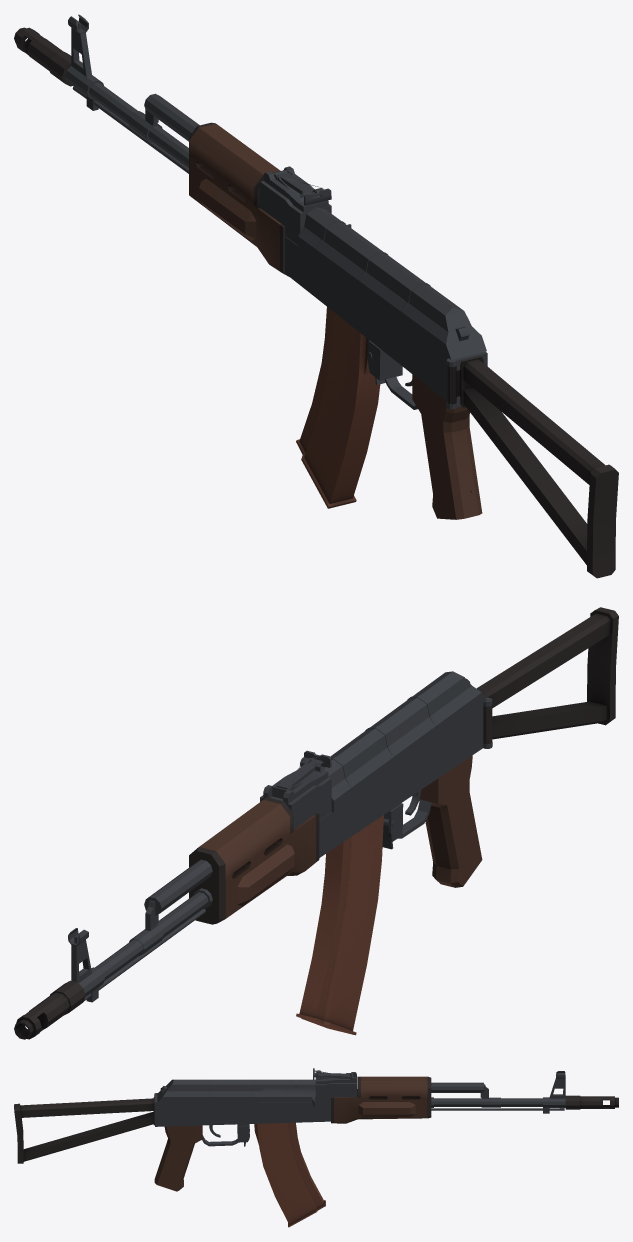
3 renders of one model, top to bottom at view 1: azimuth 30°, elevation 25°; view 2: azimuth 150°, elevation 25°; view 3: azimuth 270°, elevation 25°, orthographic. The views are drawn at different scales.
Parts seen in each view (by area): view 1: Body_AK_Platform_Body_mat_0, Stock_Skeleton_AK_Platform_Guards_mat_0, Magazine_Standard_Bakelite_AK_Platforms_Magazine_mat_0, Handguard_Standard_AK_Platform_Guards_mat_0, Grip_AK_Platform_Guards_mat_0, Barrel_Standard_AK_Platform_Body_mat_0, Muzzle_Brake_AK_Platform_Accesories_mat_0, Ironsights_AK_Platform_Body_mat_0; view 2: Body_AK_Platform_Body_mat_0, Magazine_Standard_Bakelite_AK_Platforms_Magazine_mat_0, Handguard_Standard_AK_Platform_Guards_mat_0, Stock_Skeleton_AK_Platform_Guards_mat_0, Barrel_Standard_AK_Platform_Body_mat_0, Grip_AK_Platform_Guards_mat_0, Muzzle_Brake_AK_Platform_Accesories_mat_0, Ironsights_AK_Platform_Body_mat_0; view 3: Body_AK_Platform_Body_mat_0, Magazine_Standard_Bakelite_AK_Platforms_Magazine_mat_0, Stock_Skeleton_AK_Platform_Guards_mat_0, Handguard_Standard_AK_Platform_Guards_mat_0, Barrel_Standard_AK_Platform_Body_mat_0, Grip_AK_Platform_Guards_mat_0, Bolt_AK_Platform_Body_mat_0, Muzzle_Brake_AK_Platform_Accesories_mat_0, Ironsights_AK_Platform_Body_mat_0.
Boxes of the visible parts, x1=… form: Body_AK_Platform_Body_mat_0: x1=260, y1=166, x2=487, y2=409; Stock_Skeleton_AK_Platform_Guards_mat_0: x1=447, y1=356, x2=618, y2=578; Magazine_Standard_Bakelite_AK_Platforms_Magazine_mat_0: x1=296, y1=307, x2=380, y2=508; Handguard_Standard_AK_Platform_Guards_mat_0: x1=189, y1=122, x2=288, y2=276; Grip_AK_Platform_Guards_mat_0: x1=412, y1=374, x2=482, y2=519; Barrel_Standard_AK_Platform_Body_mat_0: x1=65, y1=14, x2=199, y2=173; Muzzle_Brake_AK_Platform_Accesories_mat_0: x1=14, y1=27, x2=72, y2=86; Ironsights_AK_Platform_Body_mat_0: x1=275, y1=172, x2=331, y2=205; Body_AK_Platform_Body_mat_0: x1=260, y1=671, x2=492, y2=857; Magazine_Standard_Bakelite_AK_Platforms_Magazine_mat_0: x1=296, y1=815, x2=383, y2=1035; Handguard_Standard_AK_Platform_Guards_mat_0: x1=189, y1=797, x2=319, y2=924; Stock_Skeleton_AK_Platform_Guards_mat_0: x1=476, y1=607, x2=618, y2=744; Barrel_Standard_AK_Platform_Body_mat_0: x1=68, y1=859, x2=212, y2=1002; Grip_AK_Platform_Guards_mat_0: x1=419, y1=755, x2=482, y2=887; Muzzle_Brake_AK_Platform_Accesories_mat_0: x1=14, y1=980, x2=85, y2=1039; Ironsights_AK_Platform_Body_mat_0: x1=277, y1=750, x2=331, y2=790; Body_AK_Platform_Body_mat_0: x1=154, y1=1072, x2=356, y2=1146; Magazine_Standard_Bakelite_AK_Platforms_Magazine_mat_0: x1=254, y1=1122, x2=325, y2=1227; Stock_Skeleton_AK_Platform_Guards_mat_0: x1=14, y1=1097, x2=154, y2=1163; Handguard_Standard_AK_Platform_Guards_mat_0: x1=331, y1=1076, x2=431, y2=1123; Barrel_Standard_AK_Platform_Body_mat_0: x1=431, y1=1071, x2=565, y2=1113; Grip_AK_Platform_Guards_mat_0: x1=154, y1=1125, x2=202, y2=1191; Bolt_AK_Platform_Body_mat_0: x1=259, y1=1088, x2=315, y2=1106; Muzzle_Brake_AK_Platform_Accesories_mat_0: x1=565, y1=1095, x2=618, y2=1109; Ironsights_AK_Platform_Body_mat_0: x1=313, y1=1068, x2=349, y2=1079.
Size of the model in its own units: 4.77 by 22.81 by 81.81.
4 materials, 4 textured.
